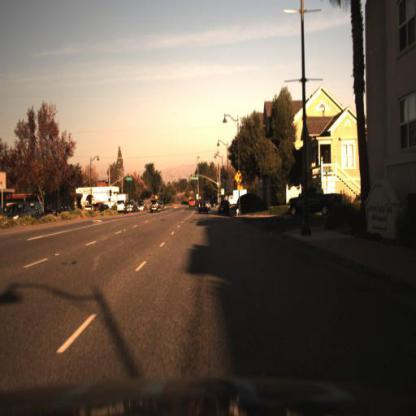car: (283, 180, 343, 228), (285, 184, 343, 218), (150, 194, 165, 217), (123, 196, 136, 217), (195, 199, 209, 217), (138, 202, 148, 218)
truck: (116, 193, 127, 217)
